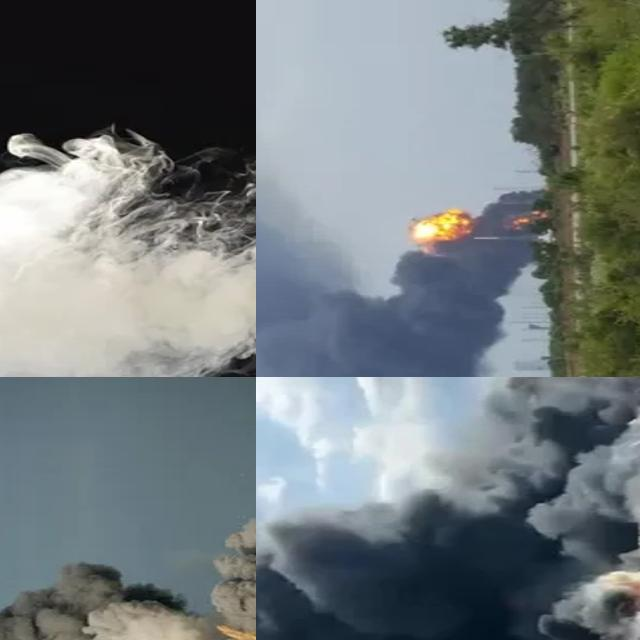smoke: (256, 377, 639, 640), (256, 114, 547, 377), (0, 82, 256, 377), (0, 493, 256, 640)
